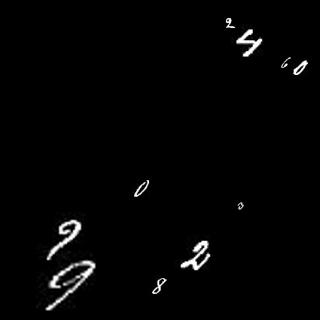eight: (153, 276, 165, 294)
four: (233, 30, 268, 61)
nine: (45, 260, 94, 311), (45, 219, 81, 261)
six: (279, 53, 292, 69)
three: (235, 196, 247, 214)
two: (179, 240, 212, 270), (224, 14, 235, 31)
zero: (133, 177, 154, 199), (291, 59, 315, 78)
